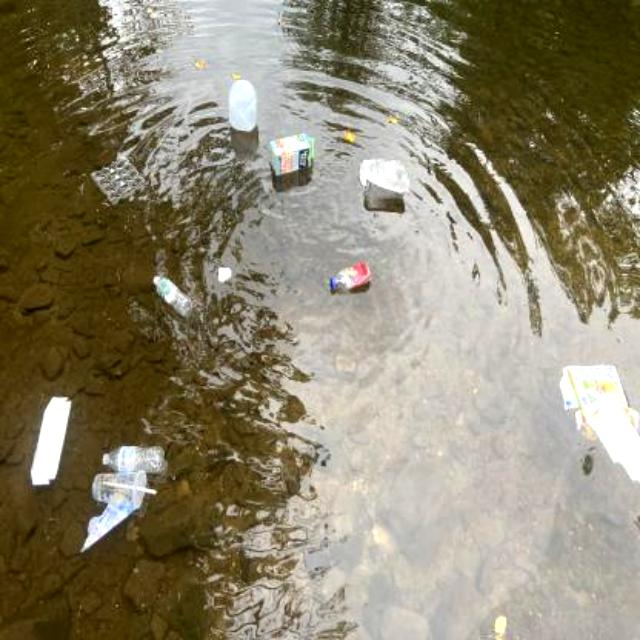Cardboard: (556, 362, 640, 484), (26, 392, 76, 490), (266, 131, 318, 177)
Metal: (356, 155, 412, 199)
Paper: (215, 264, 232, 284)
Plastic: (88, 444, 166, 504), (78, 494, 138, 554), (87, 154, 153, 206), (147, 273, 191, 315), (326, 257, 374, 295), (226, 77, 256, 131)
